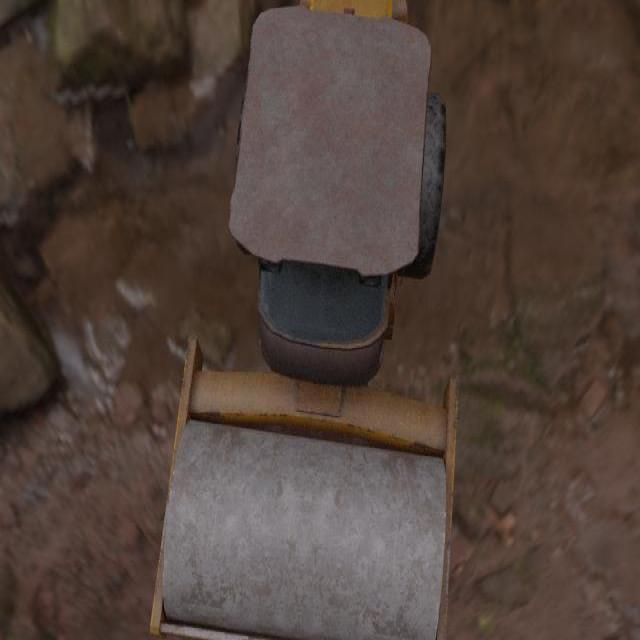Roller: (149, 0, 459, 640)
